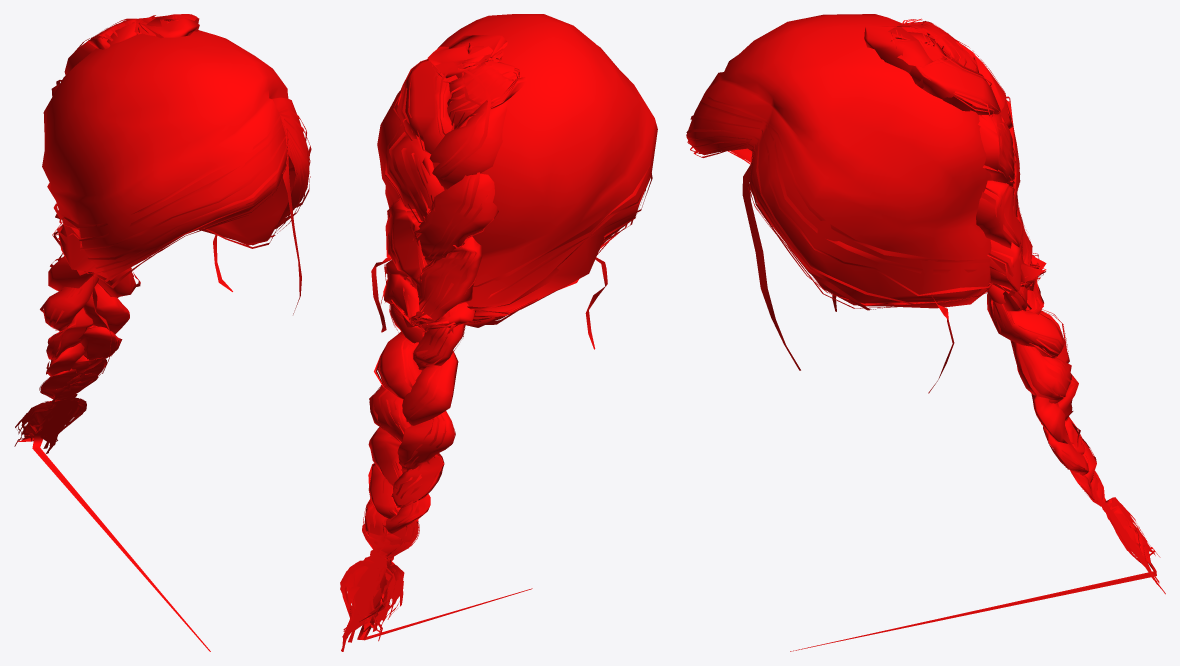
The model's file is elvs_unkempt_french_braid_M.glb.
3 renders of one model, left to right at view 1: azimuth 30°, elevation 25°; view 2: azimuth 150°, elevation 25°; view 3: azimuth 270°, elevation 25°, orthographic. The views are drawn at different scales.
Bounding box in the file's own units: 0.2122 × 0.5352 × 0.3731.
Materials: 1 (1 with a texture image).
